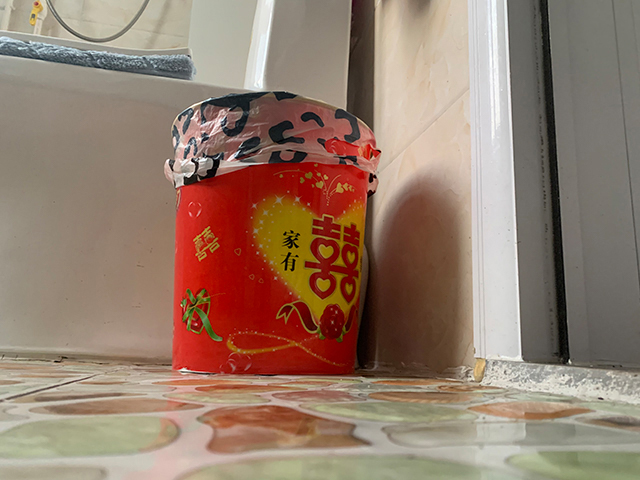closestool: (1, 1, 351, 356)
trashcan: (167, 91, 381, 377)
